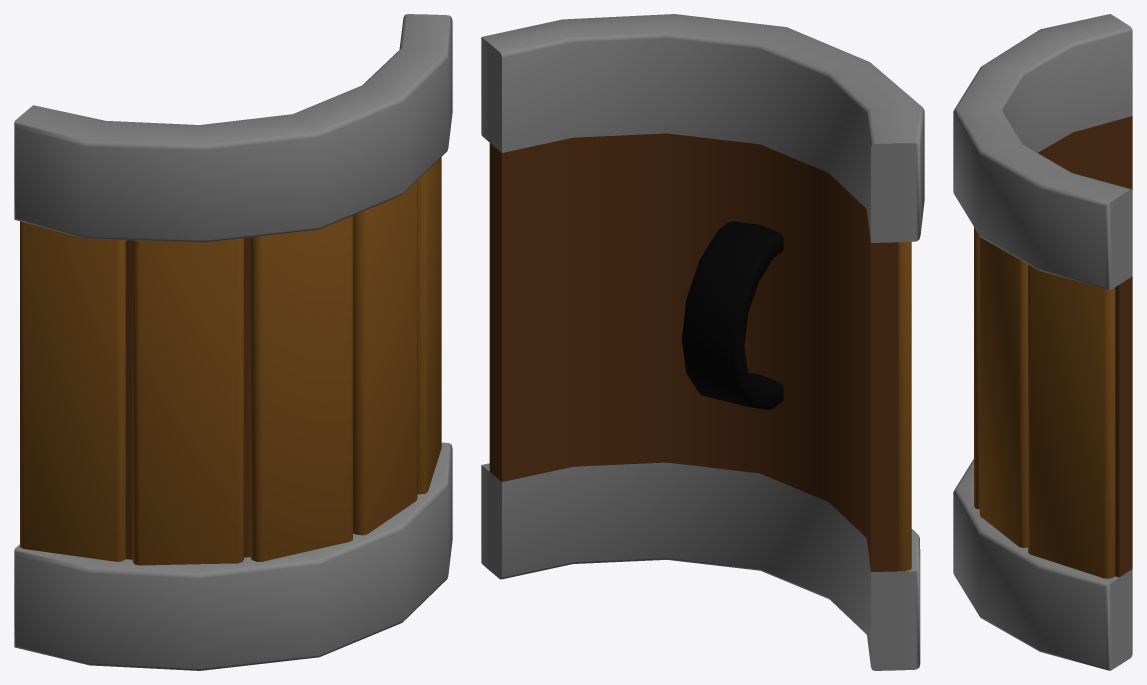
File: Shield02.fbx
The picture shows the model from 3 angles, left to right: view 1: azimuth 30°, elevation 25°; view 2: azimuth 150°, elevation 25°; view 3: azimuth 270°, elevation 25°; orthographic projection. The views are drawn at different scales.
Parts seen in each view (by area): view 1: Shield02; view 2: Shield02; view 3: Shield02.
Boxes of the visible parts, bbox=[...] form: Shield02: bbox=[14, 14, 452, 670]; Shield02: bbox=[481, 14, 924, 670]; Shield02: bbox=[953, 14, 1132, 670].
Size of the model in its own units: 440 by 506 by 176.
